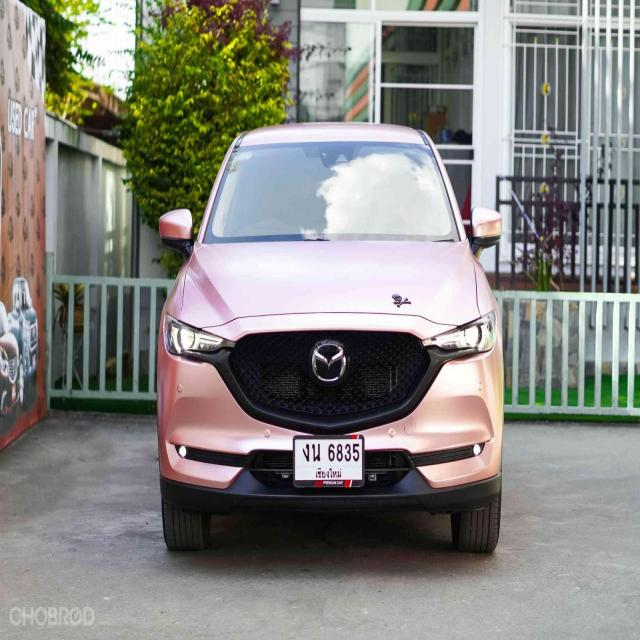license_plate: (291, 434, 366, 491)
